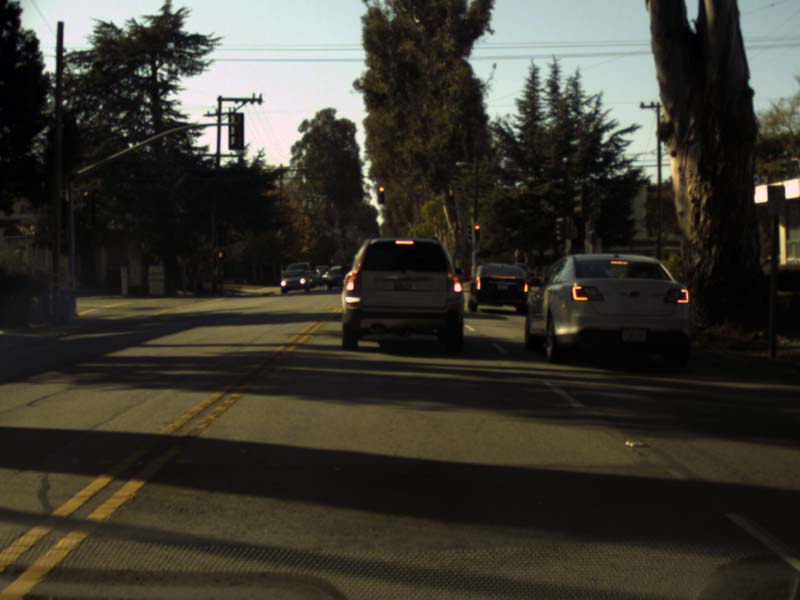Red: (472, 223, 481, 242), (377, 184, 385, 204)
